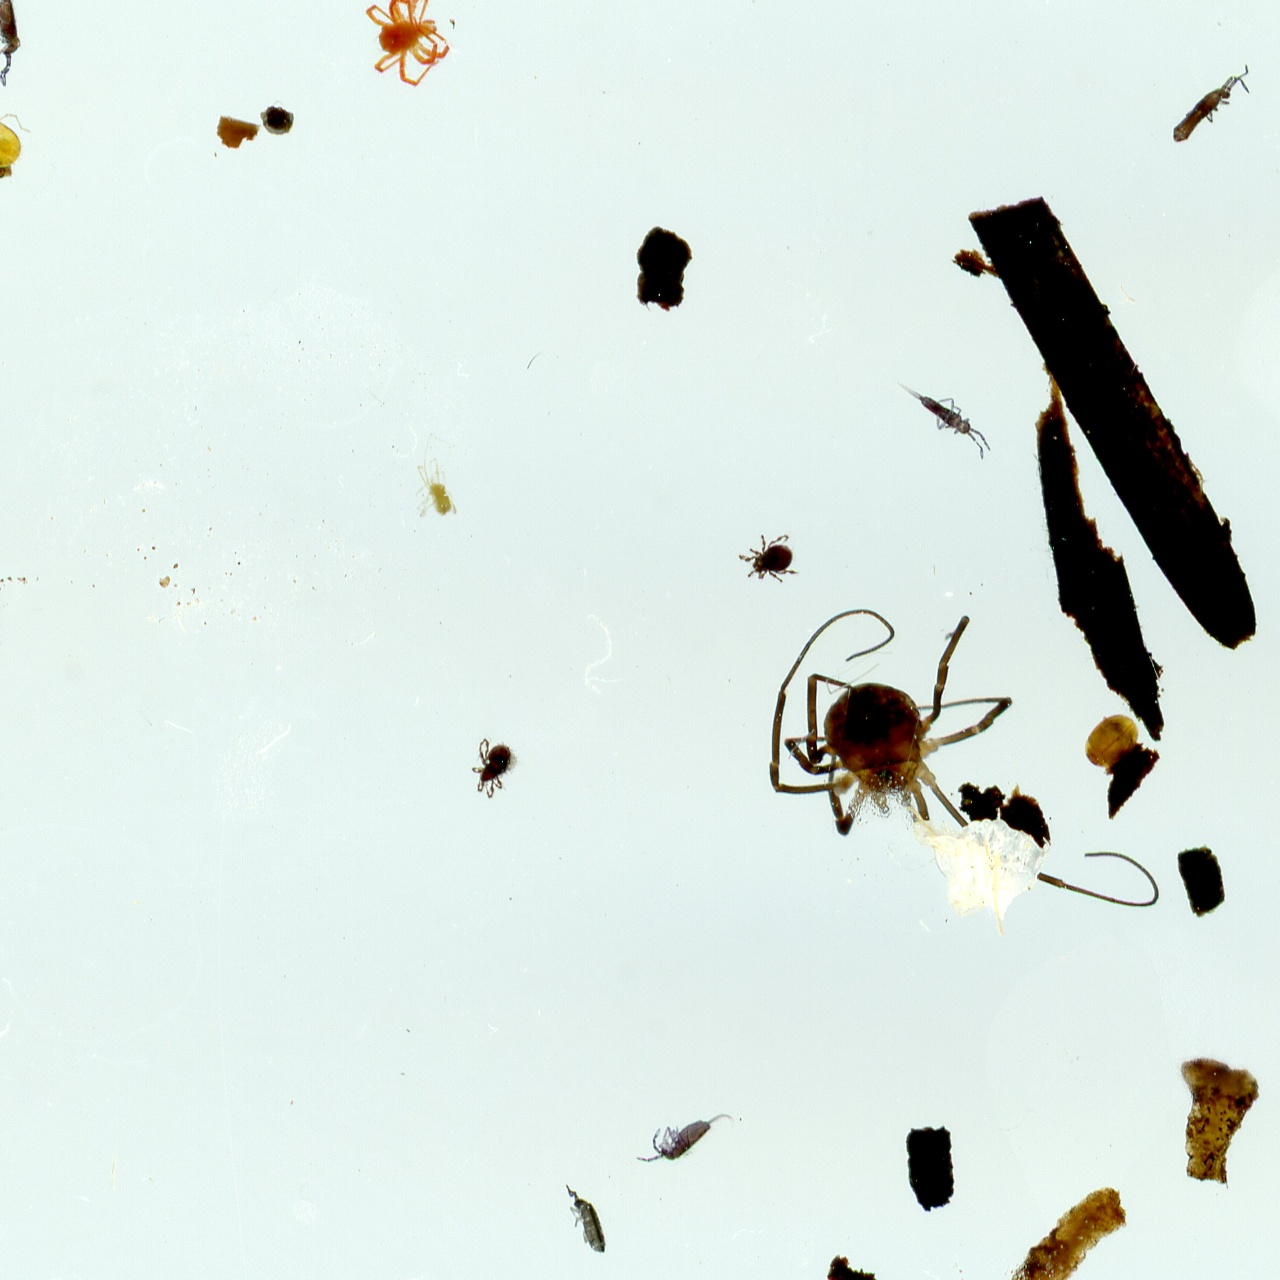arthropod: (763, 606, 1163, 913), (883, 360, 1005, 467), (1160, 48, 1266, 166), (356, 0, 456, 94), (634, 1112, 736, 1166), (1078, 704, 1143, 784), (414, 434, 458, 519), (563, 1182, 611, 1259), (471, 737, 522, 801), (738, 533, 801, 584), (0, 89, 27, 200), (0, 0, 22, 89)
